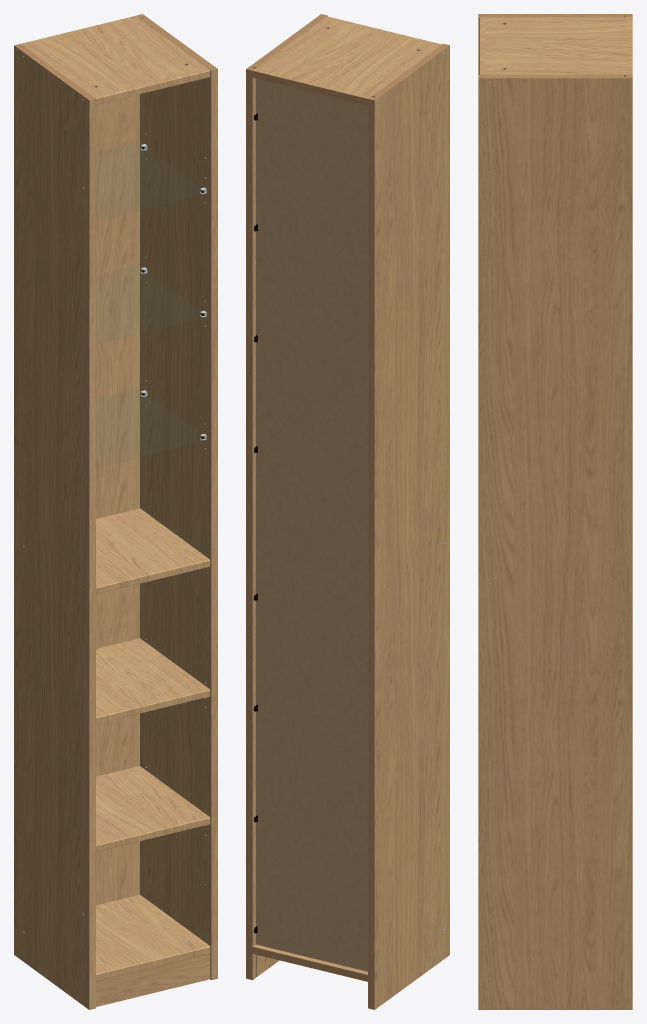
File: pax_dodatkowy_segment_srodkowy_30603829.glb
3 views of the same model, side by side, from view 1: azimuth 30°, elevation 25°; view 2: azimuth 150°, elevation 25°; view 3: azimuth 270°, elevation 25° (orthographic). The views are drawn at different scales.
Visible parts, largest first — view 1: pax_dodatkowy_segment_srodkowy_30603829; view 2: pax_dodatkowy_segment_srodkowy_30603829; view 3: pax_dodatkowy_segment_srodkowy_30603829.
Part boxes in pixels (left/top/right/bottom): pax_dodatkowy_segment_srodkowy_30603829: left=14, top=14, right=217, bottom=1009; pax_dodatkowy_segment_srodkowy_30603829: left=246, top=14, right=449, bottom=1009; pax_dodatkowy_segment_srodkowy_30603829: left=478, top=14, right=632, bottom=1009.
Size of the model in its own units: 0.3505 by 2.36 by 0.3549.
Materials: 2 (2 with a texture image).
